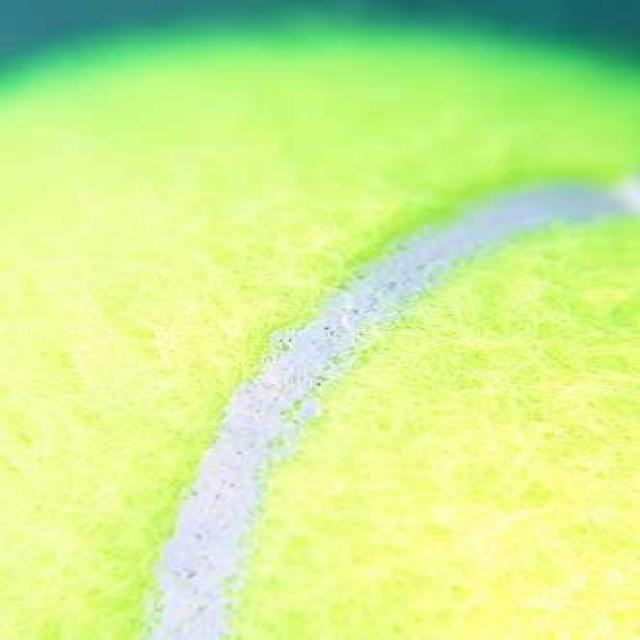Tennis_Ball: (4, 33, 640, 640)
